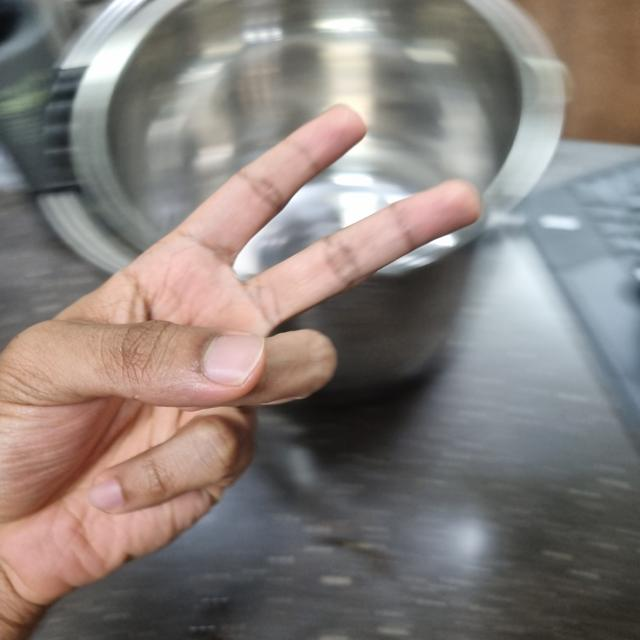Scissors: (0, 108, 472, 590)
